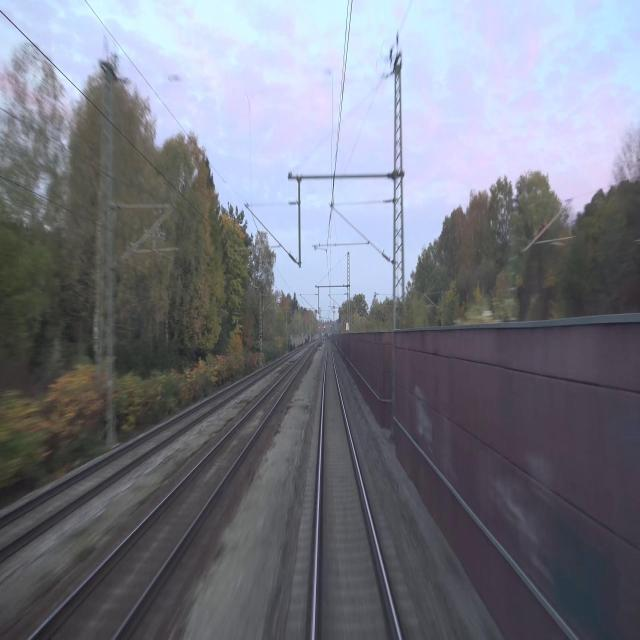rail-track: (34, 357, 305, 639), (0, 380, 247, 544), (315, 347, 397, 639)
